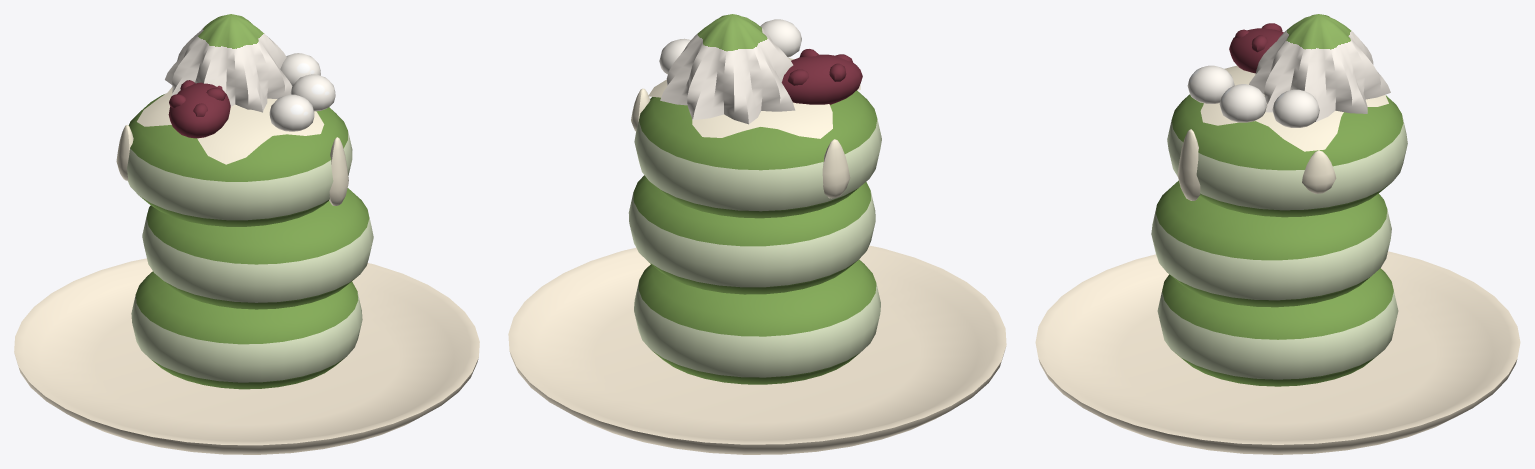
Rendered from MatchaPancakes.glb.
3 renders of one model, left to right at view 1: azimuth 30°, elevation 25°; view 2: azimuth 150°, elevation 25°; view 3: azimuth 270°, elevation 25°, orthographic. The views are drawn at different scales.
Parts seen in each view (by area): view 1: MatchaPancakes; view 2: MatchaPancakes; view 3: MatchaPancakes.
Part boxes in pixels (x1,y1,x2,y2): MatchaPancakes: (14,14,479,454); MatchaPancakes: (508,14,1006,454); MatchaPancakes: (1035,14,1520,454).
Size of the model in its own units: 1.53 by 1.27 by 1.53.
7 materials, 7 textured.
